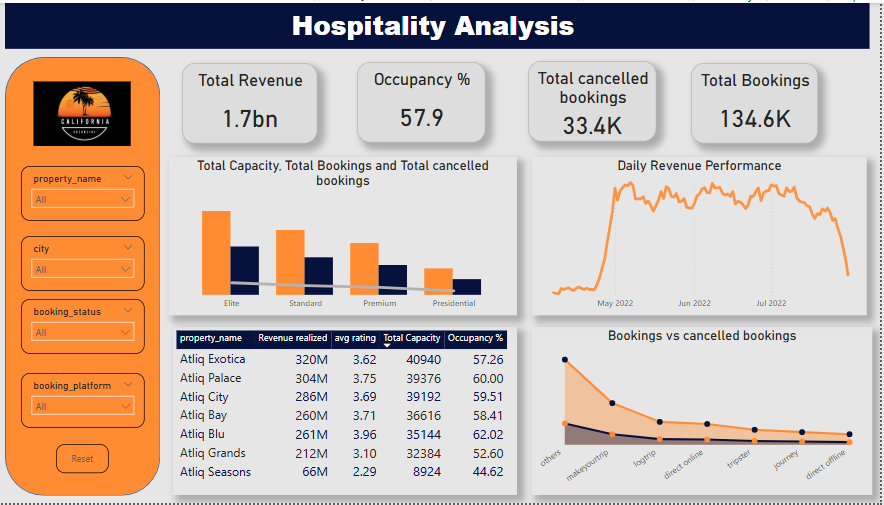

The dashboard page shown, as its layout file describes it:
{"tool":"powerbi","page":{"name":"Page 1","canvas":[1280,720],"ordinal":0},"visuals":[{"type":"card","title":"Total Revenue ","fields":{"Values":["Sum(fact_bookings.revenue_realized)"]},"box":[310,85.3,194.4,115.2],"z":0,"group":"g1"},{"type":"shape","box":[18.5,77.3,223.4,631.6],"z":0},{"type":"textbox","box":[18.5,0,1244.7,65.5],"z":1000},{"type":"card","title":"Occupancy %","fields":{"Values":["dim dates.Occupancy %"]},"box":[566.3,83.8,184.3,116.6],"z":1000,"group":"g1"},{"type":"card","title":"Total cancelled bookings ","fields":{"Values":["dim dates.Total cancelled bookings"]},"box":[789.5,73.2,184.3,116.6],"z":2000,"group":"g1"},{"type":"group","id":"g1","title":"Group 1","box":[310,72.3,910.1,128.2],"z":2000},{"type":"card","title":"Total Bookings ","fields":{"Values":["dim dates.Total Bookings"]},"box":[1025.7,72.3,194.4,115.2],"z":3000,"group":"g1"},{"type":"pivotTable","fields":{"Rows":["dim_hotels.property_name"],"Values":["Sum(fact_bookings.revenue_realized)","dim dates.avg rating","dim dates.Total Capacity","dim dates.Occupancy %"]},"box":[260.4,467,495.5,241.9],"z":3000},{"type":"lineClusteredColumnComboChart","title":"Total Capacity, Total Bookings and Total cancelled bookings","fields":{"Category":["dim_rooms.room_class"],"Y":["dim dates.Total Capacity","dim dates.Total Bookings"],"Y2":["dim dates.Total cancelled bookings"]},"box":[255.3,221.7,500.6,228.5],"z":4000},{"type":"areaChart","title":"Bookings vs cancelled bookings","fields":{"Y":["dim dates.Total Bookings","dim dates.Total cancelled bookings"],"Category":["fact_bookings.booking_platform"]},"box":[777.6,466.6,489.6,241.9],"z":5000},{"type":"slicer","fields":{"Values":["fact_bookings.booking_platform"]},"box":[42,532.5,178.1,79],"z":6000},{"type":"slicer","fields":{"Values":["fact_bookings.booking_status"]},"box":[42,426.7,178.1,79],"z":7000},{"type":"slicer","fields":{"Values":["dim_hotels.city"]},"box":[42,336,178.1,79],"z":8000},{"type":"slicer","fields":{"Values":["dim_hotels.property_name"]},"box":[42,235.2,178.1,79],"z":9000},{"type":"lineChart","title":"Daily Revenue Performance","fields":{"Y":["Sum(fact_bookings.revenue_generated)"],"Category":["fact_bookings.booking_date.Variation.Date Hierarchy.Year","fact_bookings.booking_date.Variation.Date Hierarchy.Quarter","fact_bookings.booking_date.Variation.Date Hierarchy.Month","fact_bookings.booking_date.Variation.Date Hierarchy.Day"]},"box":[777.7,221.7,482.1,228.5],"z":10000},{"type":"image","box":[55.4,85.7,149.5,149.5],"z":11000},{"type":"actionButton","box":[92.4,635,75.6,42],"z":12000}]}

Visuals, with their boxes in screenshot pixels (x1, y1, x2, y2), scaled from the page's 1280x720 canvas onto the 884x505 screenshot:
"Total Revenue " card: bbox=(214, 60, 348, 141)
shape: bbox=(13, 54, 167, 497)
textbox: bbox=(13, 0, 872, 46)
"Occupancy %" card: bbox=(391, 59, 518, 141)
"Total cancelled bookings " card: bbox=(545, 51, 673, 133)
"Group 1" group: bbox=(214, 51, 843, 141)
"Total Bookings " card: bbox=(708, 51, 843, 132)
pivotTable - dim_hotels.property_name x Sum(fact_bookings.revenue_realized): bbox=(180, 328, 522, 497)
"Total Capacity, Total Bookings and Total cancelled bookings" lineClusteredColumnComboChart: bbox=(176, 155, 522, 316)
"Bookings vs cancelled bookings" areaChart: bbox=(537, 327, 875, 497)
slicer - fact_bookings.booking_platform: bbox=(29, 373, 152, 429)
slicer - fact_bookings.booking_status: bbox=(29, 299, 152, 355)
slicer - dim_hotels.city: bbox=(29, 236, 152, 291)
slicer - dim_hotels.property_name: bbox=(29, 165, 152, 220)
"Daily Revenue Performance" lineChart: bbox=(537, 155, 870, 316)
image: bbox=(38, 60, 142, 165)
actionButton: bbox=(64, 445, 116, 475)
